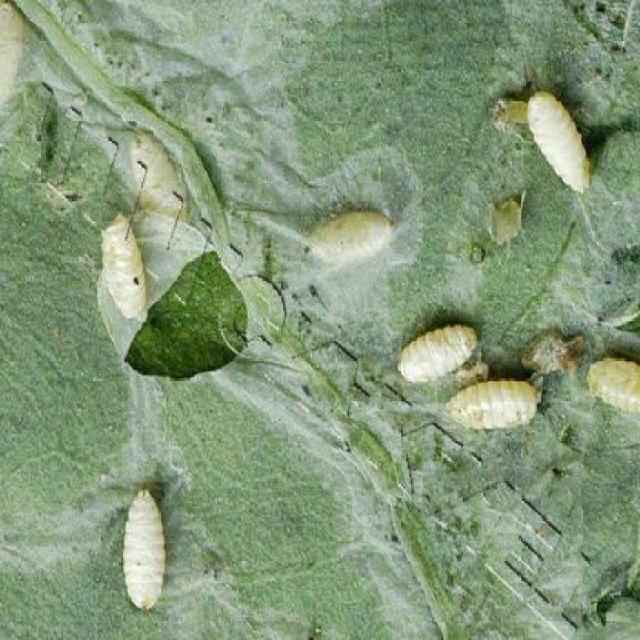whorl-maggot: (528, 76, 592, 206), (439, 375, 550, 439), (118, 486, 172, 616), (387, 325, 496, 383), (303, 202, 405, 260), (96, 213, 147, 324), (592, 348, 640, 423)
